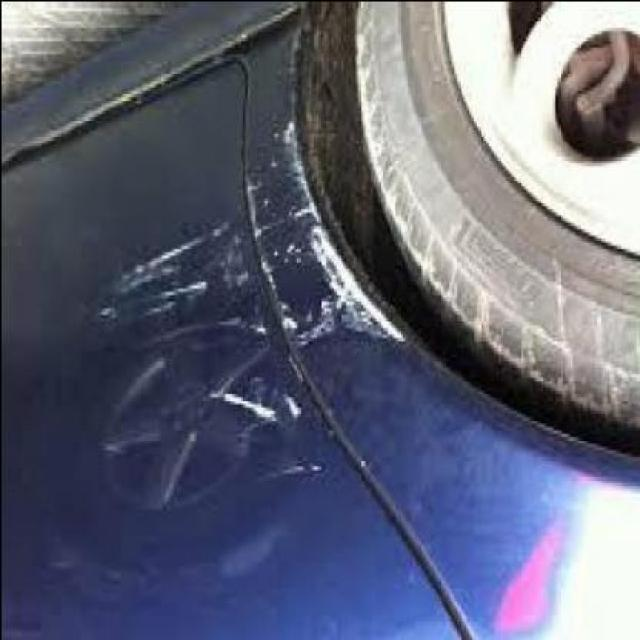damage: (91, 111, 419, 494)
